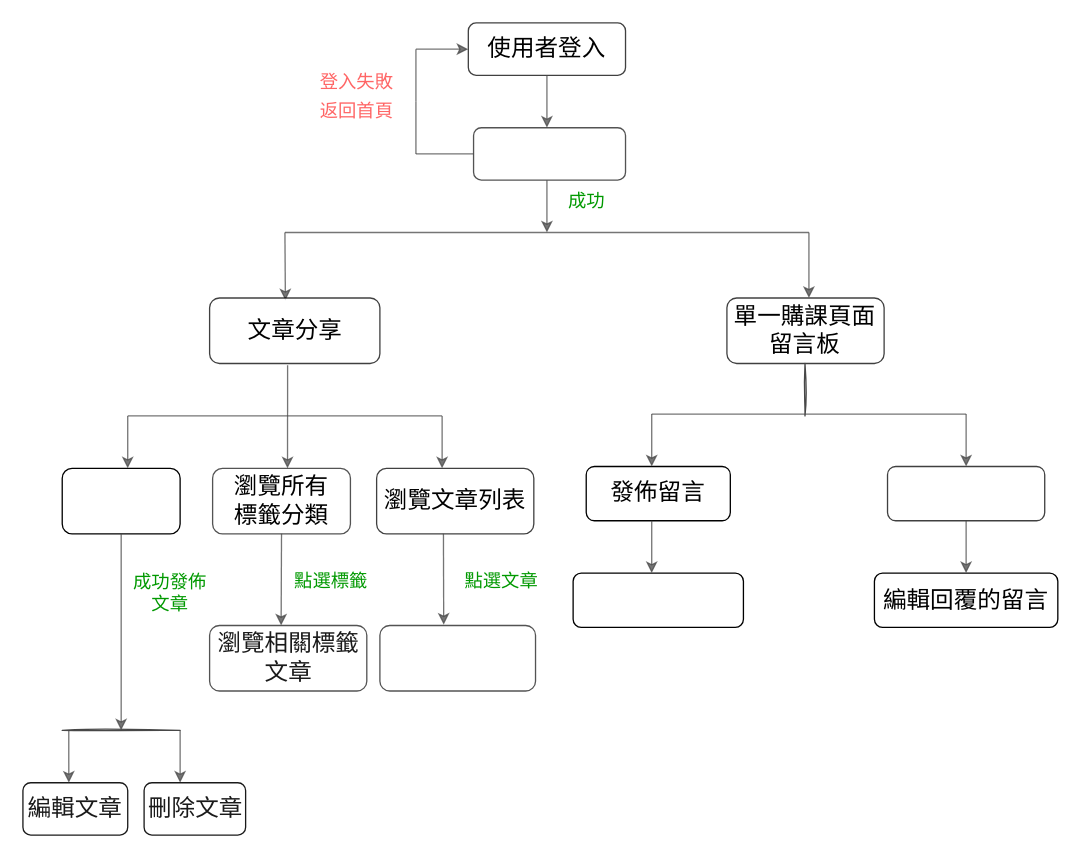
This 1081x858 diagram has some shape labels left out. The box of each missing label's shape, as (x1, y1, x2, y2) in pixels:
回覆留言: (886, 465, 1045, 521)
瀏覽單篇文章: (379, 624, 536, 691)
登入驗證: (472, 126, 626, 180)
發佈文章: (61, 467, 180, 534)
編輯發佈的留言: (572, 572, 743, 627)
